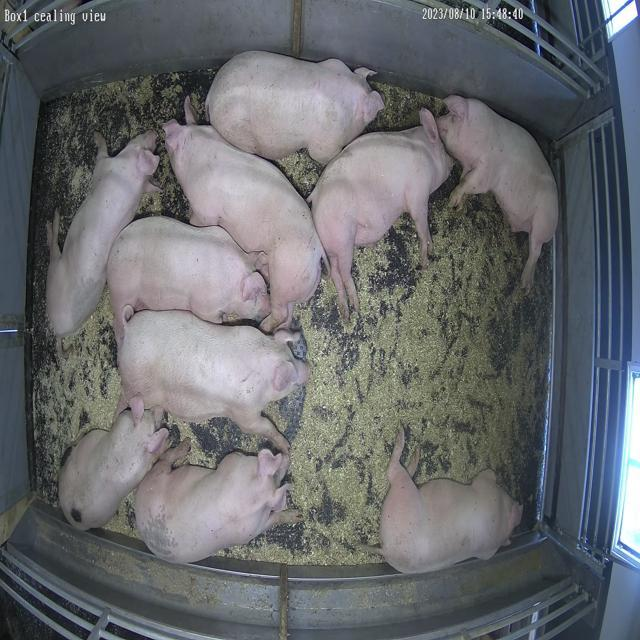Pig: (163, 99, 325, 332), (309, 108, 454, 320), (118, 311, 309, 454), (438, 95, 559, 292), (46, 131, 159, 336), (107, 216, 271, 344), (206, 50, 385, 164), (381, 432, 523, 574), (136, 443, 289, 564), (58, 410, 169, 530)
